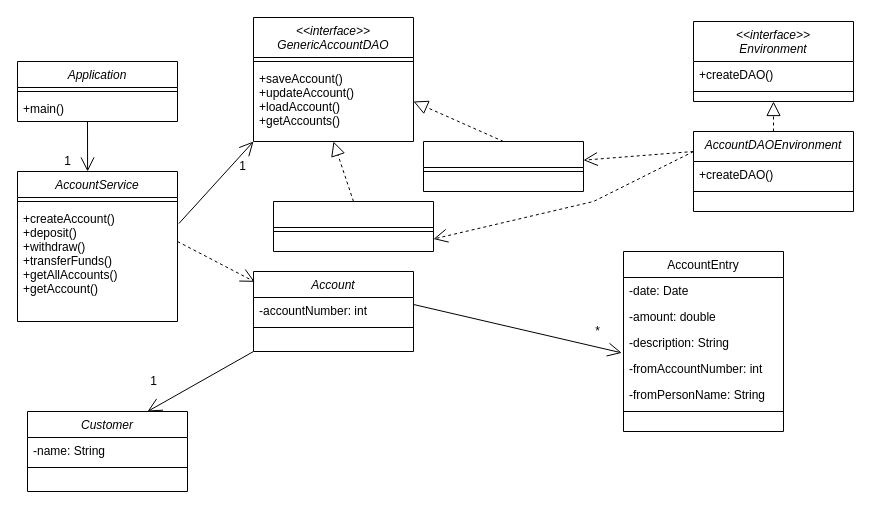
This 871x509 diagram has some shape labels left out. The centre of each missing label's shape, as x and y in pixels:
AccountDAO: point (503, 166)
MockAccountDAO: point (353, 226)
